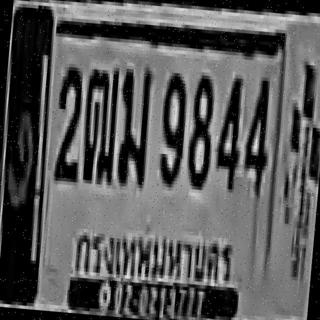A18: (78, 64, 120, 184)
A33: (113, 65, 152, 184)
N02: (50, 63, 85, 179)
N04: (240, 74, 272, 194), (212, 74, 244, 189)
N08: (183, 71, 216, 187)
N09: (156, 69, 188, 185)
P04: (69, 218, 238, 294)
